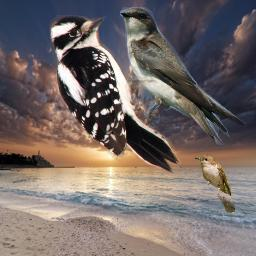Cuckoo: (194, 154, 235, 213)
Swallow: (120, 7, 246, 145)
Woodpecker: (49, 15, 181, 177)
